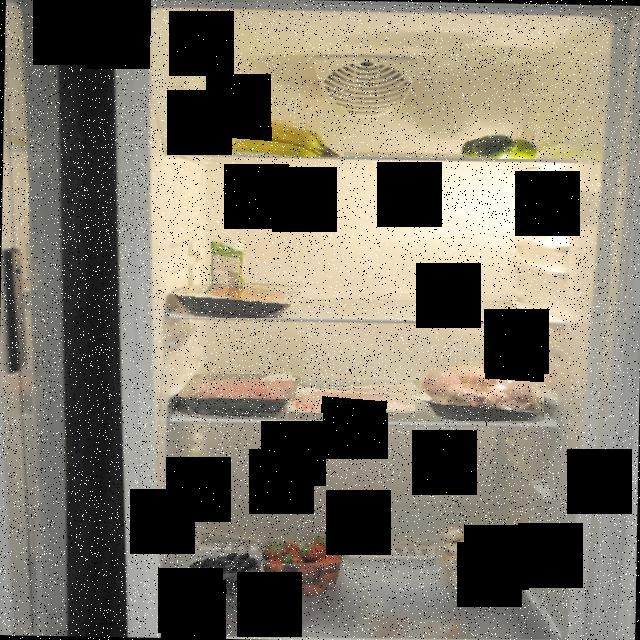banana: (228, 118, 344, 158)
beef: (170, 280, 301, 318)
blueberries: (188, 553, 262, 597)
chicken: (416, 358, 544, 421)
ground_beef: (190, 374, 292, 408)
ham: (296, 383, 416, 413)
heavy_cream: (208, 235, 244, 292)
lime: (459, 132, 542, 160)
mushrooms: (429, 524, 524, 602)
strawberries: (262, 532, 352, 590)
